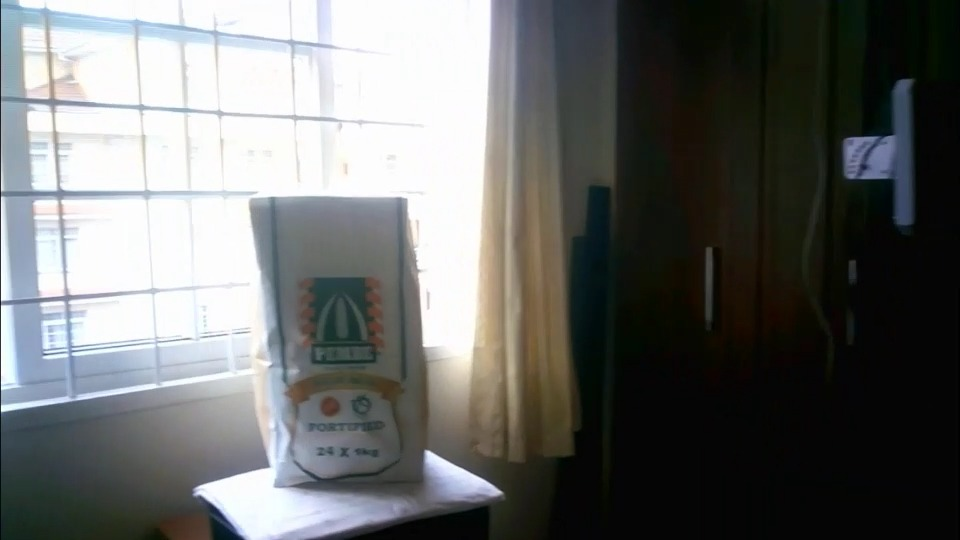maize_flour_green_label: (247, 193, 430, 489)
